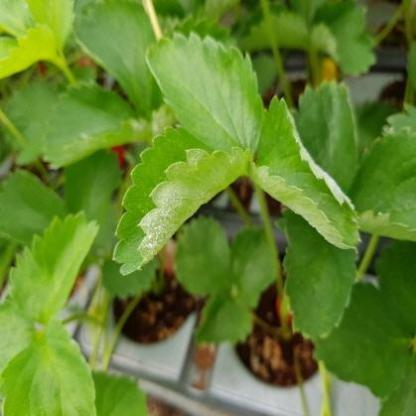Strawberry_Powdery_Mildew_Leaf: (112, 124, 250, 276), (246, 94, 362, 249)
